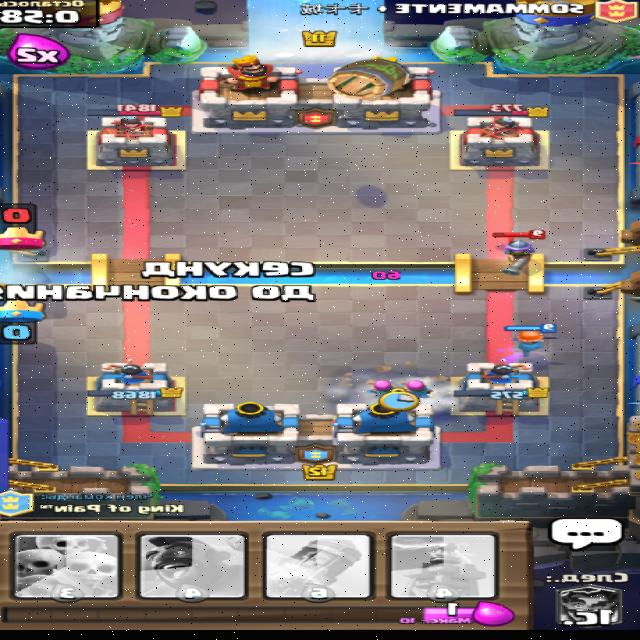Enemy-GoblinBarrel: (328, 57, 415, 99)
Enemy-Musketeer: (490, 228, 548, 276)
Player-Archer: (399, 378, 438, 399), (363, 378, 398, 399)
Player-Valkyrie: (505, 321, 564, 358)
